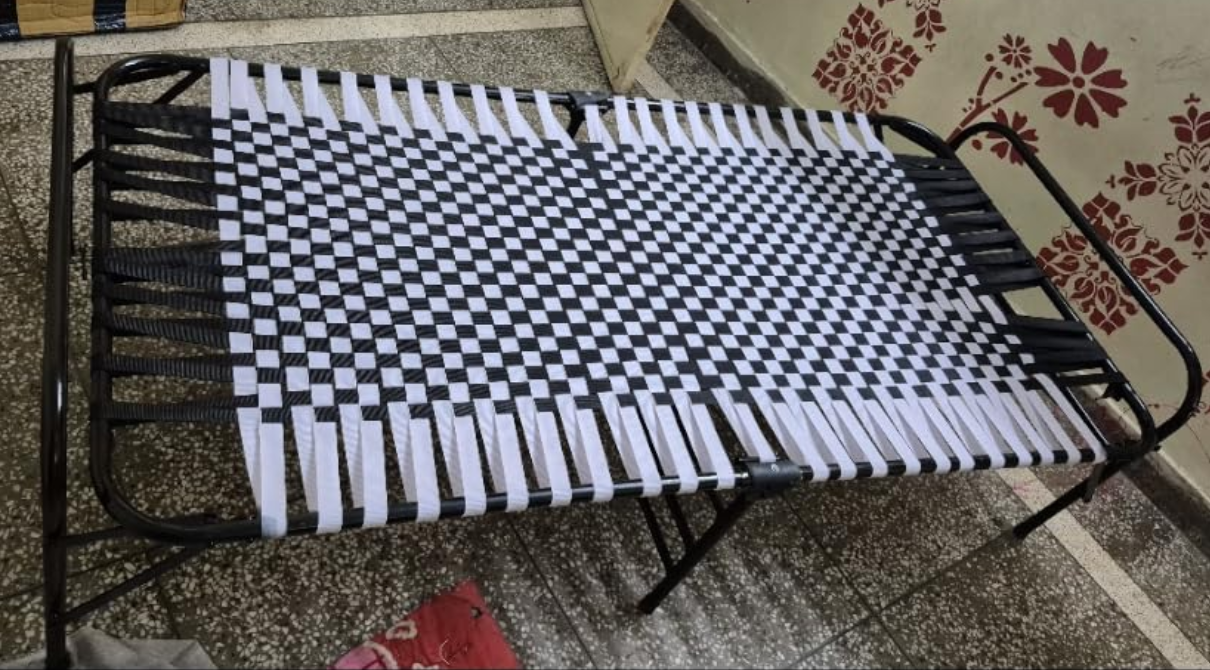cot: (42, 31, 1210, 665)
